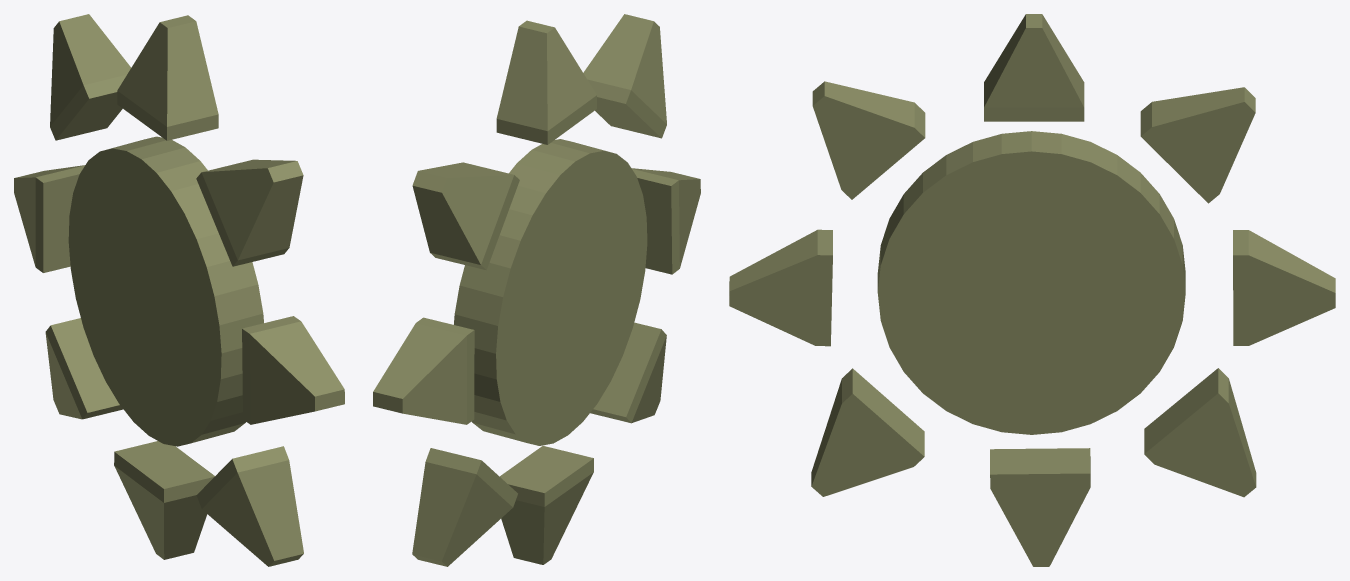
Rendered from SUMMER(Icon).fbx.
3 views of the same model, side by side, from view 1: azimuth 30°, elevation 25°; view 2: azimuth 150°, elevation 25°; view 3: azimuth 270°, elevation 25° (orthographic).
Visible parts, largest first — view 1: Cylinder.001, Cube.002, Cube.009, Cube.008, Cube.005, Cube.004, Cube.006, Cube.003, Cube.007; view 2: Cylinder.001, Cube.002, Cube.006, Cube.003, Cube.007, Cube.009, Cube.004, Cube.005, Cube.008; view 3: Cylinder.001, Cube.008, Cube.007, Cube.004, Cube.006, Cube.009, Cube.005, Cube.003, Cube.002.
Part boxes in pixels (x1=…): Cylinder.001: x1=68, y1=136, x2=263, y2=446; Cube.002: x1=117, y1=15, x2=218, y2=140; Cube.009: x1=196, y1=159, x2=303, y2=266; Cube.008: x1=196, y1=446, x2=303, y2=566; Cube.005: x1=242, y1=316, x2=344, y2=424; Cube.004: x1=114, y1=441, x2=214, y2=559; Cube.006: x1=50, y1=14, x2=130, y2=140; Cube.003: x1=14, y1=165, x2=85, y2=272; Cube.007: x1=45, y1=318, x2=123, y2=419; Cylinder.001: x1=454, y1=139, x2=647, y2=445; Cube.002: x1=496, y1=20, x2=596, y2=144; Cube.006: x1=412, y1=162, x2=519, y2=270; Cube.003: x1=373, y1=317, x2=474, y2=424; Cube.007: x1=412, y1=448, x2=517, y2=566; Cube.009: x1=583, y1=14, x2=666, y2=138; Cube.004: x1=499, y1=446, x2=593, y2=564; Cube.005: x1=631, y1=168, x2=700, y2=274; Cube.008: x1=590, y1=322, x2=666, y2=423; Cylinder.001: x1=877, y1=131, x2=1185, y2=434; Cube.008: x1=811, y1=368, x2=924, y2=496; Cube.007: x1=1144, y1=368, x2=1256, y2=497; Cube.004: x1=990, y1=448, x2=1090, y2=566; Cube.006: x1=1140, y1=87, x2=1255, y2=203; Cube.009: x1=812, y1=81, x2=925, y2=199; Cube.005: x1=729, y1=229, x2=832, y2=346; Cube.003: x1=1233, y1=230, x2=1335, y2=345; Cube.002: x1=984, y1=14, x2=1084, y2=121.
Size of the model in its own units: 6.91 by 66.13 by 67.53.
